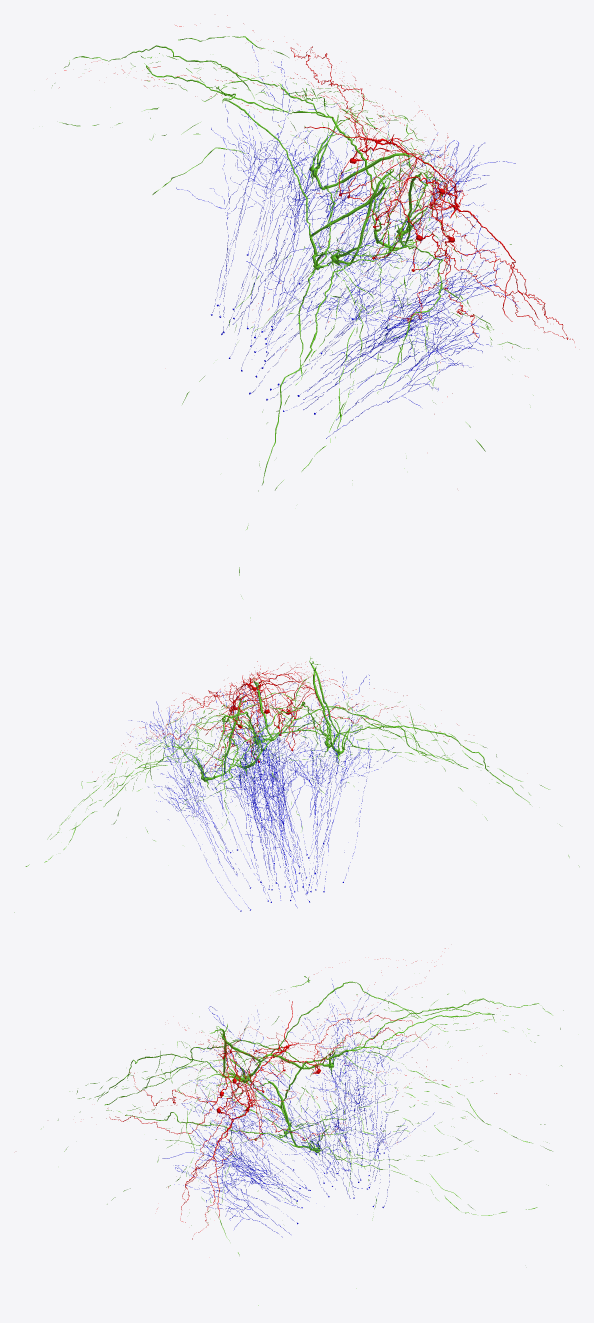
The model's file is olfactory-bulb-lite.glb.
The picture shows the model from 3 angles, top to bottom: view 1: azimuth 30°, elevation 25°; view 2: azimuth 150°, elevation 25°; view 3: azimuth 270°, elevation 25°; orthographic projection. The views are drawn at different scales.
Parts seen in each view (by area): view 1: GC4[18].soma_GC4[18].soma_0, MC5[6].soma_MC5[6].soma_0, TC5[10].soma_TC5[10].soma_0; view 2: GC4[18].soma_GC4[18].soma_0, MC5[6].soma_MC5[6].soma_0, TC5[10].soma_TC5[10].soma_0; view 3: GC4[18].soma_GC4[18].soma_0, MC5[6].soma_MC5[6].soma_0, TC5[10].soma_TC5[10].soma_0.
Boxes of the visible parts, bbox=[...] form: GC4[18].soma_GC4[18].soma_0: bbox=[176, 43, 518, 438]; MC5[6].soma_MC5[6].soma_0: bbox=[52, 36, 533, 618]; TC5[10].soma_TC5[10].soma_0: bbox=[55, 15, 575, 414]; GC4[18].soma_GC4[18].soma_0: bbox=[128, 671, 395, 911]; MC5[6].soma_MC5[6].soma_0: bbox=[14, 657, 579, 912]; TC5[10].soma_TC5[10].soma_0: bbox=[98, 661, 463, 786]; GC4[18].soma_GC4[18].soma_0: bbox=[162, 980, 434, 1237]; MC5[6].soma_MC5[6].soma_0: bbox=[41, 976, 563, 1305]; TC5[10].soma_TC5[10].soma_0: bbox=[91, 948, 510, 1239].
Bounding box in the file's own units: 6.15 × 4.18 × 8.1.
